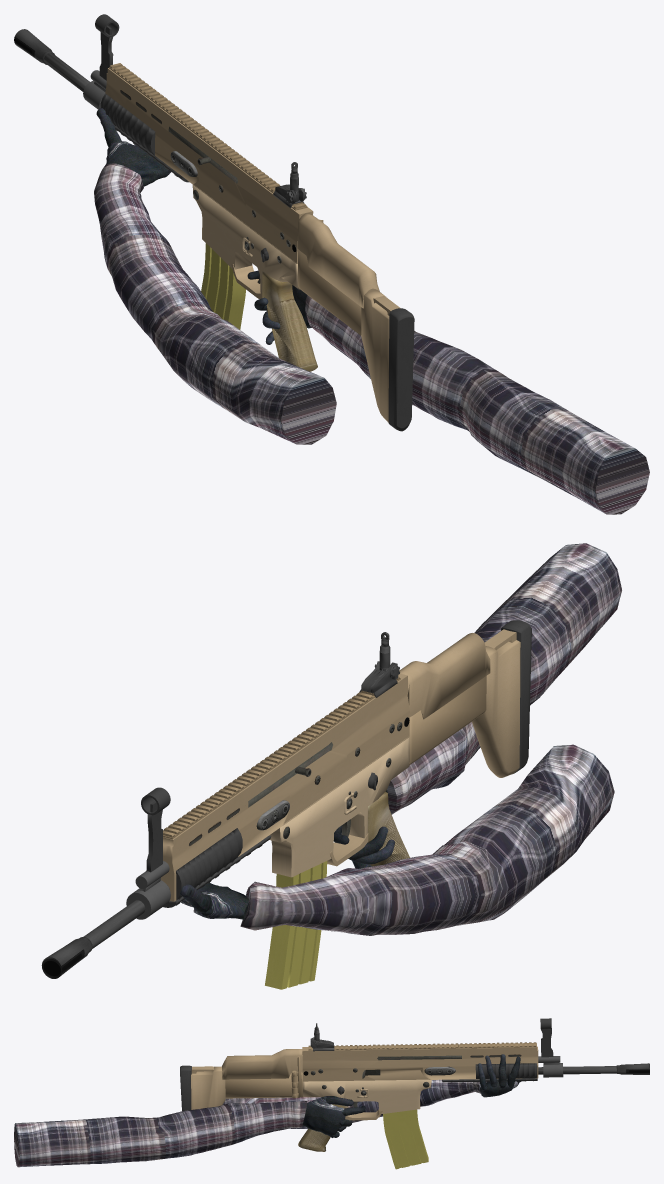
Rendered from scar_vfire.fbx.
3 views of the same model, one above another, from view 1: azimuth 30°, elevation 25°; view 2: azimuth 150°, elevation 25°; view 3: azimuth 270°, elevation 25° (orthographic). The views are drawn at different scales.
Visible parts, largest first — view 1: larm, rarm, scar_upperbody, scar_frontstock, scar_lowerbody, scar_pistolgrip, scar_stockpad, scar_rearstock, scar_rail, scar_clip, scar_grip, lhand (+1 smaller); view 2: larm, rarm, scar_upperbody, scar_frontstock, scar_lowerbody, scar_rearstock, scar_clip, scar_rail, scar_grip, scar_barrel, scar_stockpad, scar_barrelholder (+4 smaller); view 3: rarm, scar_upperbody, scar_frontstock, scar_lowerbody, scar_clip, larm, scar_rearstock, rhand, scar_rail, scar_barrel, scar_grip, scar_pistolgrip (+9 smaller).
Boxes of the visible parts, <box> form: larm: <box>94,163,336,444</box>; rarm: <box>305,295,649,514</box>; scar_upperbody: <box>105,68,313,263</box>; scar_frontstock: <box>297,213,379,335</box>; scar_lowerbody: <box>192,184,300,293</box>; scar_pistolgrip: <box>262,271,317,371</box>; scar_stockpad: <box>388,308,414,431</box>; scar_rearstock: <box>361,290,400,422</box>; scar_rail: <box>109,63,307,210</box>; scar_clip: <box>201,243,245,329</box>; scar_grip: <box>100,93,189,182</box>; lhand: <box>106,141,170,186</box>; larm: <box>240,744,614,935</box>; rarm: <box>387,543,621,814</box>; scar_upperbody: <box>160,673,409,901</box>; scar_frontstock: <box>399,633,490,765</box>; scar_lowerbody: <box>269,737,409,877</box>; scar_rearstock: <box>472,629,520,777</box>; scar_clip: <box>265,861,327,989</box>; scar_rail: <box>163,675,400,839</box>; scar_grip: <box>163,828,271,907</box>; scar_barrel: <box>41,885,169,978</box>; scar_stockpad: <box>501,620,531,774</box>; scar_barrelholder: <box>126,861,170,919</box>; rarm: <box>14,1101,307,1167</box>; scar_upperbody: <box>302,1043,538,1081</box>; scar_frontstock: <box>222,1049,302,1098</box>; scar_lowerbody: <box>303,1079,431,1115</box>; scar_clip: <box>383,1109,428,1169</box>; larm: <box>223,1079,486,1128</box>; scar_rearstock: <box>191,1066,225,1109</box>; rhand: <box>302,1096,345,1137</box>; scar_rail: <box>308,1042,536,1050</box>; scar_barrel: <box>538,1063,649,1074</box>; scar_grip: <box>442,1063,537,1082</box>; scar_pistolgrip: <box>298,1104,344,1151</box>.
Size of the model in its own units: 14.2 by 14.6 by 56.65.
Materials: 5 (5 with a texture image).
